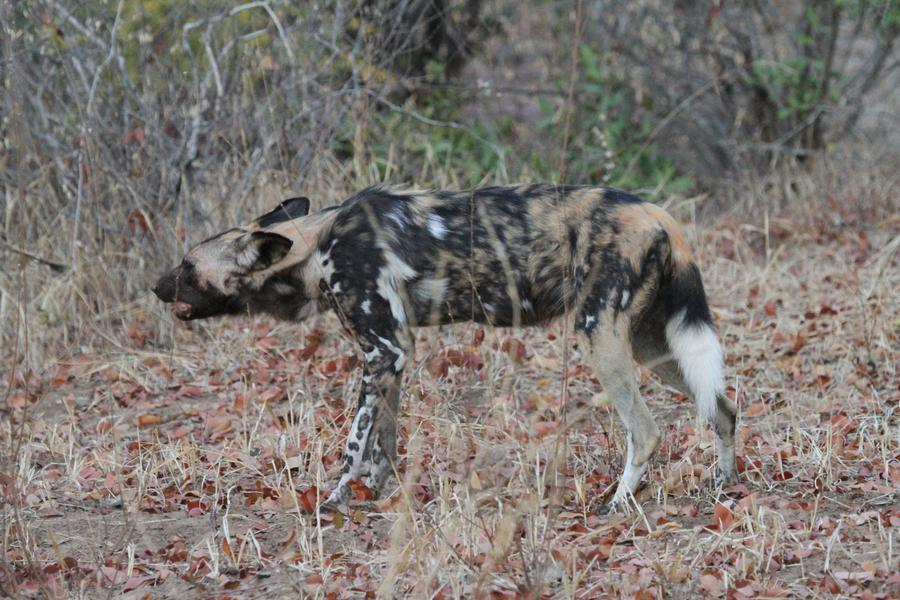wilddog: (158, 161, 713, 430)
